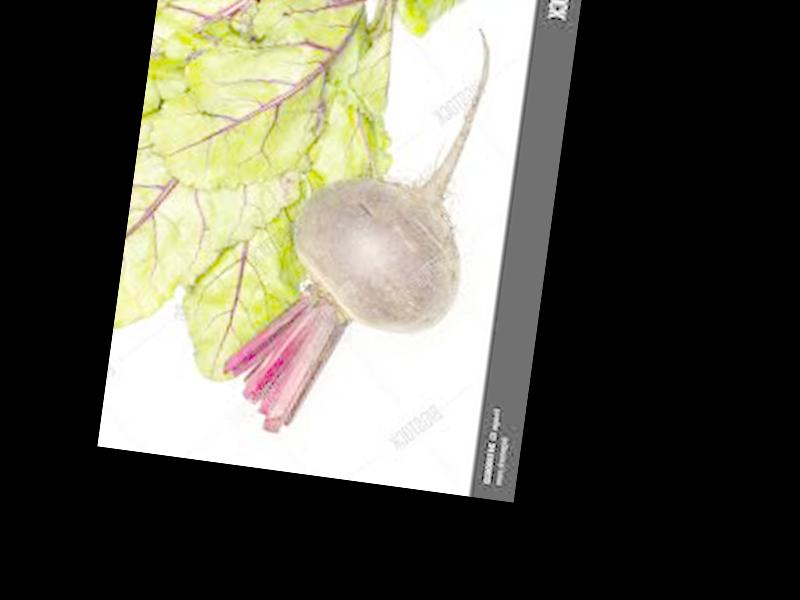Beet: (216, 1, 494, 455)
